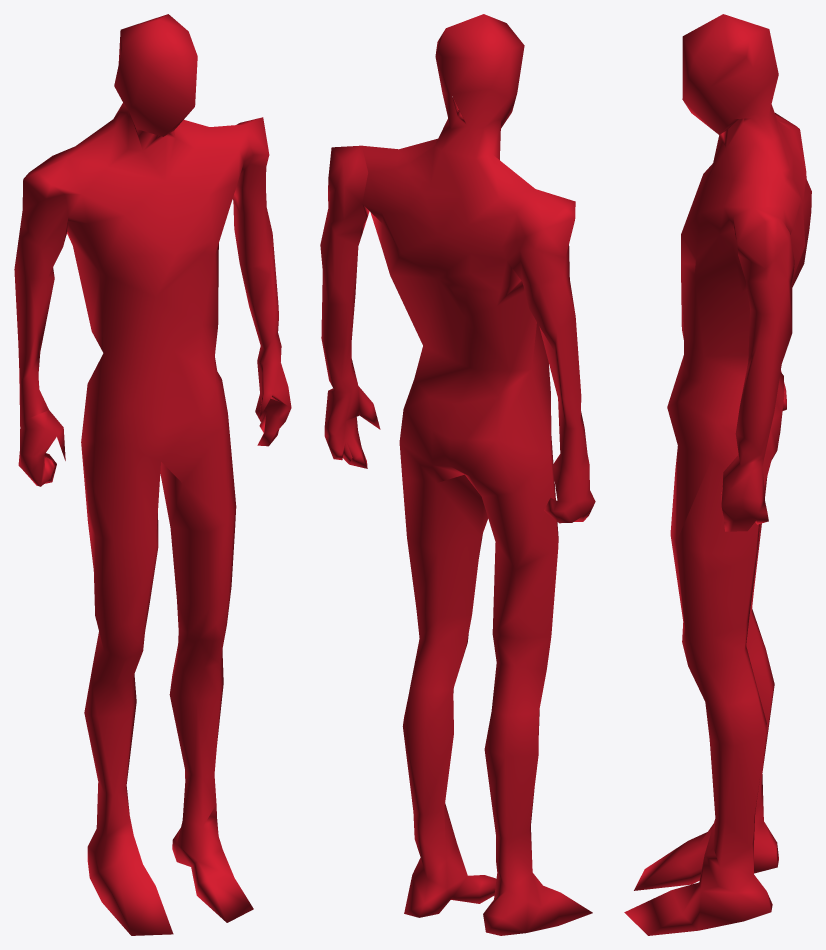
The model's file is gallery-visitor.glb.
3 renders of one model, left to right at view 1: azimuth 30°, elevation 25°; view 2: azimuth 150°, elevation 25°; view 3: azimuth 270°, elevation 25°, orthographic. The views are drawn at different scales.
Visible parts, largest first — view 1: GalleryVisitor; view 2: GalleryVisitor; view 3: GalleryVisitor.
Part boxes in pixels (bbox=[...]): GalleryVisitor: bbox=[14, 14, 291, 935]; GalleryVisitor: bbox=[320, 14, 595, 935]; GalleryVisitor: bbox=[624, 14, 811, 935].
Bounding box in the file's own units: 0.6938 × 2.3 × 0.4383.
